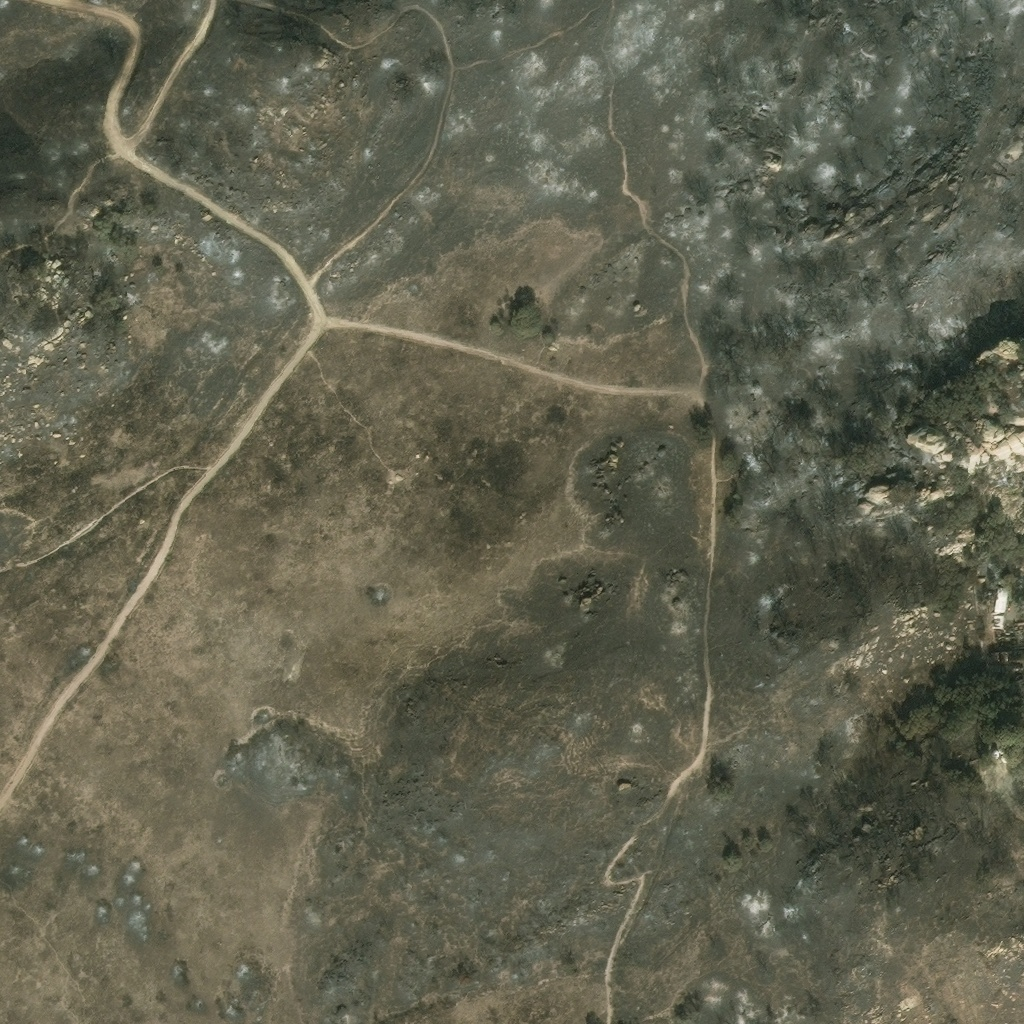2 major-damage: (991, 590, 1008, 632)
3 destroyed: (994, 624, 1023, 649)
